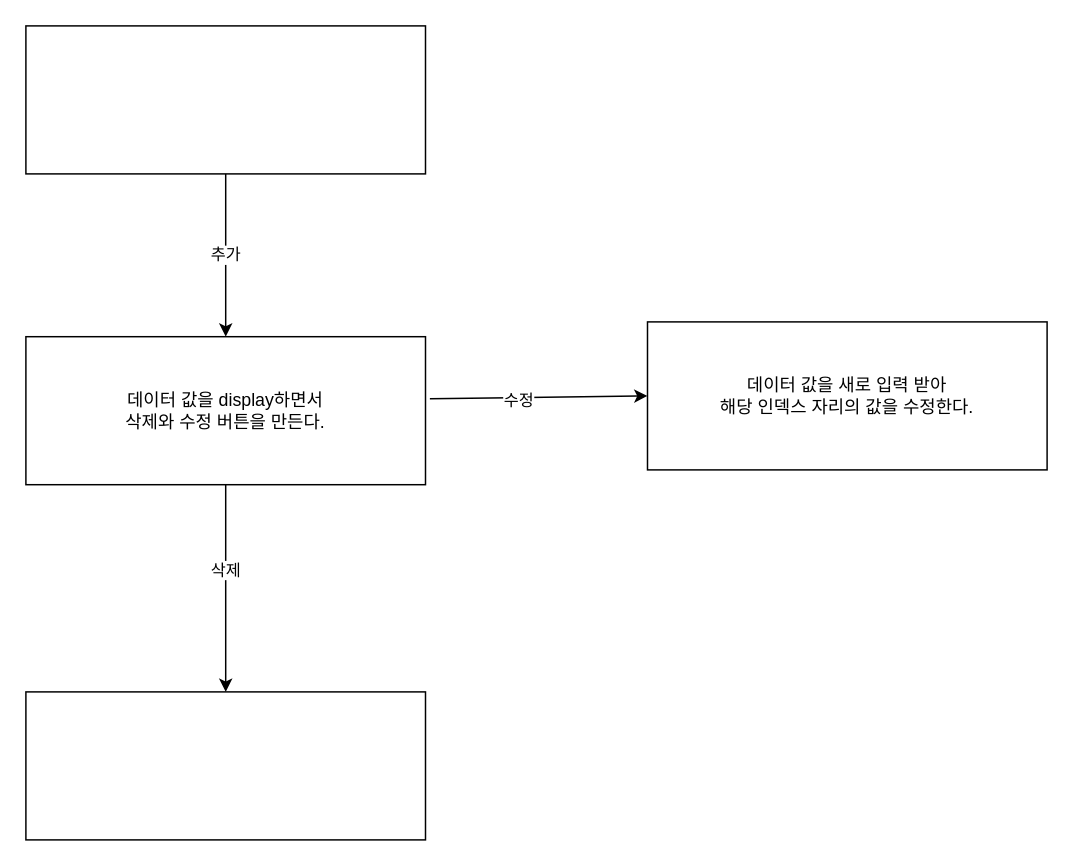
The diagram is 1073 pixels wide and 866 high, and some of its shapes have lost their labels. Here are the shapes that lost their labels. From the top down, the box of each, then its label:
(24, 24, 426, 174): Text 타입으로 값을 입력받는다.
(24, 690, 426, 840): 삭제버튼을 누르면 해당 인덱스의 값을 삭제한다.
